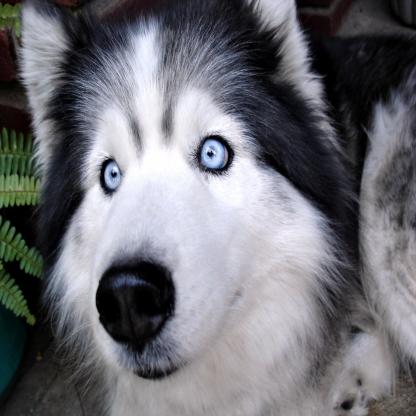dog: (21, 7, 416, 416)
